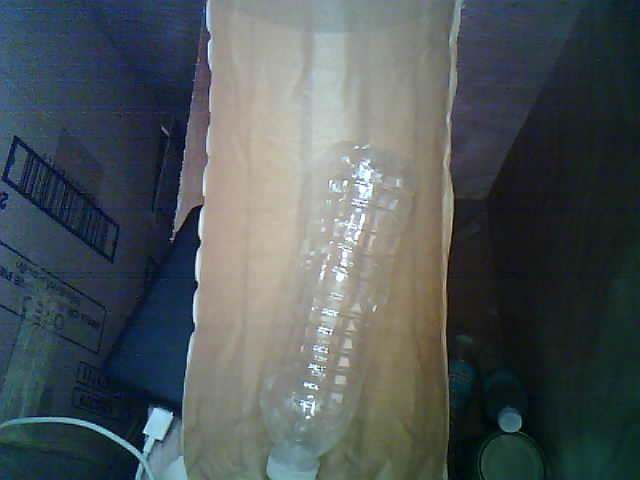small_bottle: (243, 130, 427, 480)
